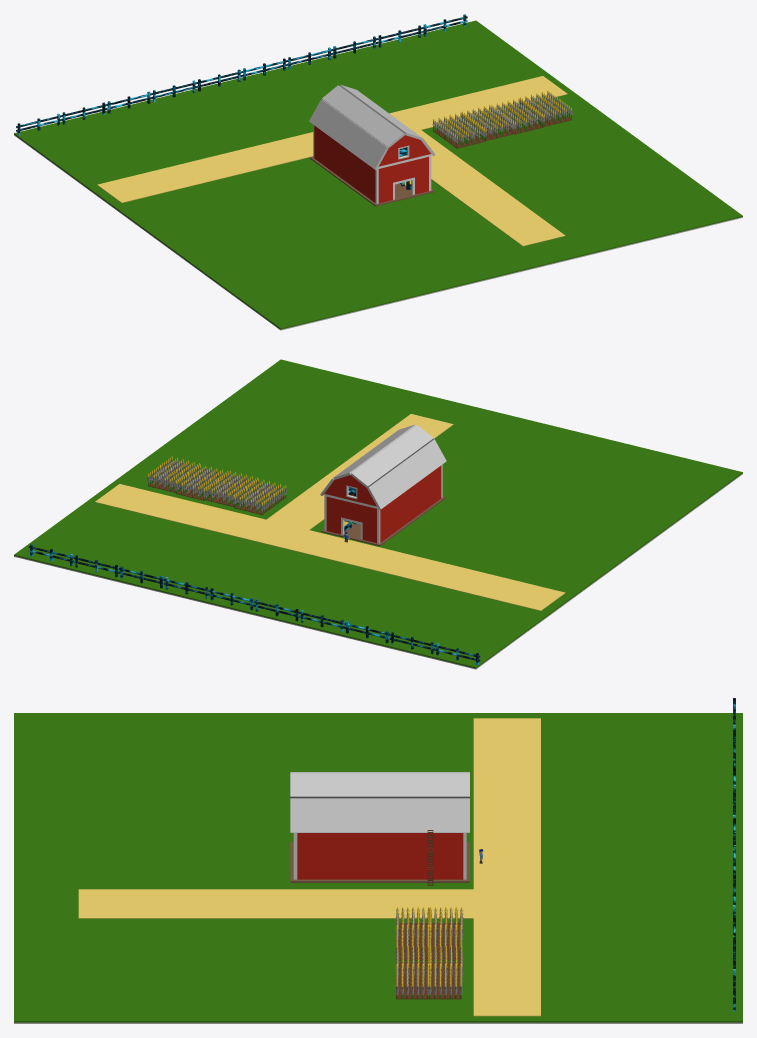
File: Map_Test 1.fbx
3 views of the same model, one above another, from view 1: azimuth 30°, elevation 25°; view 2: azimuth 150°, elevation 25°; view 3: azimuth 270°, elevation 25° (orthographic). The views are drawn at different scales.
Visible parts, largest first — view 1: Map_Test_2; view 2: Map_Test_2; view 3: Map_Test_2.
Boxes of the visible parts, x1,y1,x2,y2 form: Map_Test_2: (14, 14, 742, 330); Map_Test_2: (14, 359, 742, 669); Map_Test_2: (14, 698, 742, 1023).
Size of the model in its own units: 25630 by 3625 by 25600.
